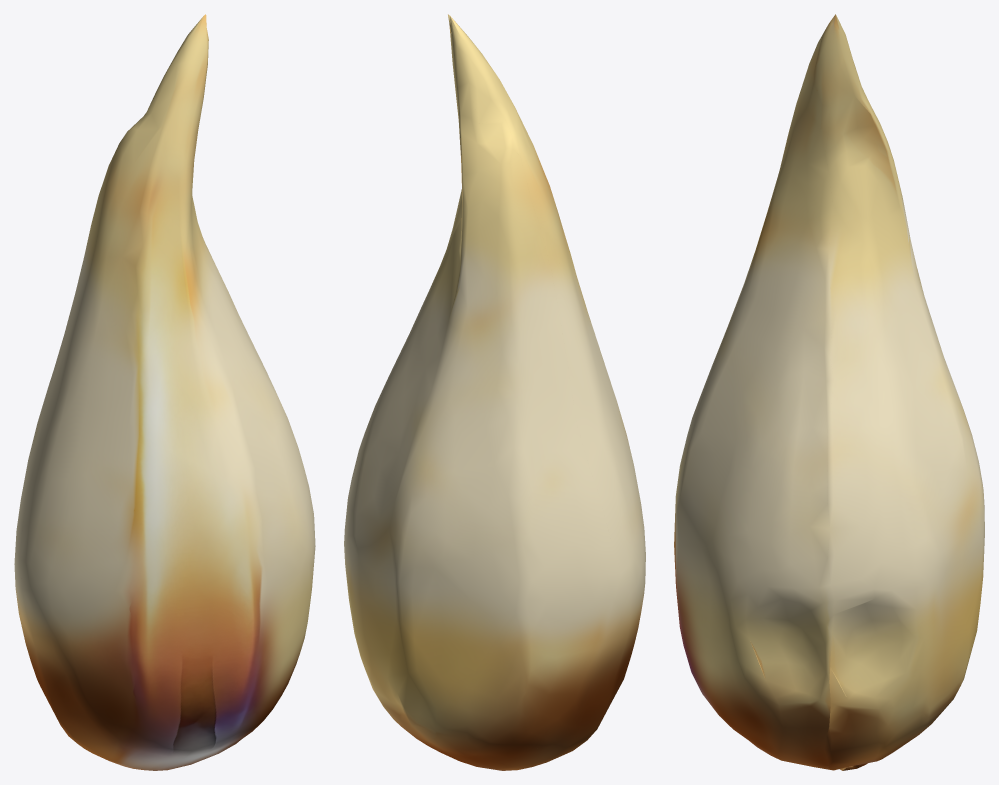
Rendered from Fuego.obj.
3 views of the same model, side by side, from view 1: azimuth 30°, elevation 25°; view 2: azimuth 150°, elevation 25°; view 3: azimuth 270°, elevation 25° (orthographic). The views are drawn at different scales.
Parts seen in each view (by area): view 1: model; view 2: model; view 3: model.
Boxes of the visible parts, x1,y1,x2,y2 form: model: (14, 14, 315, 770); model: (344, 14, 645, 770); model: (674, 14, 984, 770).
Bounding box in the file's own units: 0.7456 × 1.9 × 0.7004.
1 material, 1 textured.
